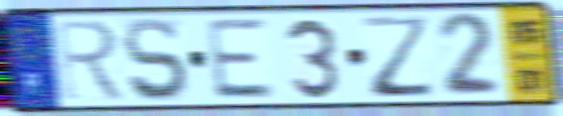2: (434, 10, 504, 102)
3: (281, 14, 343, 102)
E: (203, 16, 278, 102)
R: (52, 18, 130, 104)
S: (120, 15, 192, 105)
Z: (358, 13, 439, 100)
